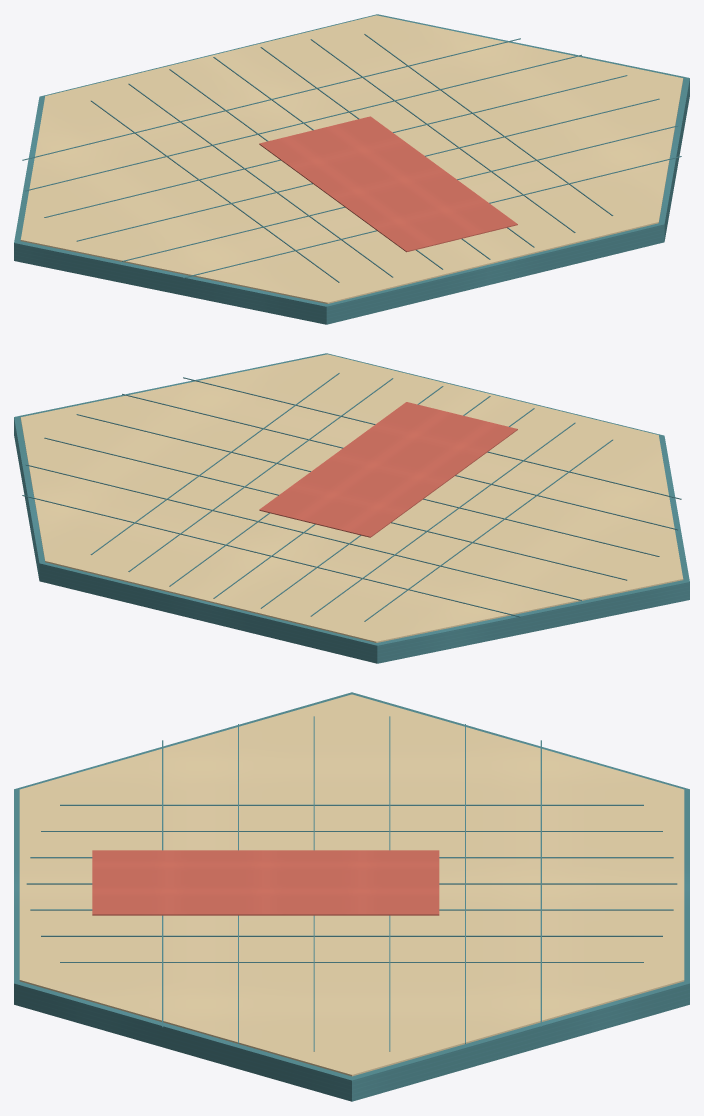
File: atlas100-s076-a07.lod2.glb
3 views of the same model, one above another, from view 1: azimuth 30°, elevation 25°; view 2: azimuth 150°, elevation 25°; view 3: azimuth 270°, elevation 25° (orthographic). The views are drawn at different scales.
Visible parts, largest first — view 1: atlas100-s076-a07:part-001, atlas100-s076-a07:part-000, atlas100-s076-a07:part-021, atlas100-s076-a07:part-015, atlas100-s076-a07:part-014, atlas100-s076-a07:part-017, atlas100-s076-a07:part-016, atlas100-s076-a07:part-018, atlas100-s076-a07:part-019, atlas100-s076-a07:part-005, atlas100-s076-a07:part-009, atlas100-s076-a07:part-004 (+1 smaller); view 2: atlas100-s076-a07:part-001, atlas100-s076-a07:part-000, atlas100-s076-a07:part-021, atlas100-s076-a07:part-015, atlas100-s076-a07:part-014, atlas100-s076-a07:part-016, atlas100-s076-a07:part-017, atlas100-s076-a07:part-018, atlas100-s076-a07:part-019, atlas100-s076-a07:part-005, atlas100-s076-a07:part-009, atlas100-s076-a07:part-004 (+1 smaller); view 3: atlas100-s076-a07:part-001, atlas100-s076-a07:part-021, atlas100-s076-a07:part-000, atlas100-s076-a07:part-009, atlas100-s076-a07:part-004, atlas100-s076-a07:part-005.
Part boxes in pixels (box(x1,y1,x2,y2)): atlas100-s076-a07:part-001: box(20, 15, 683, 303); atlas100-s076-a07:part-000: box(14, 14, 689, 324); atlas100-s076-a07:part-021: box(259, 116, 517, 252); atlas100-s076-a07:part-015: box(25, 54, 581, 191); atlas100-s076-a07:part-014: box(22, 38, 520, 160); atlas100-s076-a07:part-017: box(76, 98, 659, 241); atlas100-s076-a07:part-016: box(44, 75, 627, 217); atlas100-s076-a07:part-018: box(122, 125, 677, 261); atlas100-s076-a07:part-019: box(183, 156, 681, 278); atlas100-s076-a07:part-005: box(128, 83, 393, 277); atlas100-s076-a07:part-009: box(310, 39, 575, 232); atlas100-s076-a07:part-004: box(91, 100, 339, 282); atlas100-s076-a07:part-001: box(20, 354, 683, 642); atlas100-s076-a07:part-000: box(14, 353, 689, 663); atlas100-s076-a07:part-021: box(259, 402, 517, 537); atlas100-s076-a07:part-015: box(26, 464, 581, 600); atlas100-s076-a07:part-014: box(22, 495, 520, 617); atlas100-s076-a07:part-016: box(44, 437, 627, 580); atlas100-s076-a07:part-017: box(76, 414, 659, 556); atlas100-s076-a07:part-018: box(122, 393, 678, 530); atlas100-s076-a07:part-019: box(183, 377, 681, 499); atlas100-s076-a07:part-005: box(310, 422, 575, 616); atlas100-s076-a07:part-009: box(128, 378, 393, 571); atlas100-s076-a07:part-004: box(364, 439, 612, 621); atlas100-s076-a07:part-001: box(19, 694, 684, 1076); atlas100-s076-a07:part-021: box(92, 850, 439, 915); atlas100-s076-a07:part-000: box(14, 692, 689, 1101); atlas100-s076-a07:part-009: box(41, 935, 662, 936); atlas100-s076-a07:part-004: box(60, 804, 643, 805); atlas100-s076-a07:part-005: box(41, 831, 662, 831).
Size of the model in its own units: 13.35 by 0.404 by 9.82.
3 materials, 3 textured.
